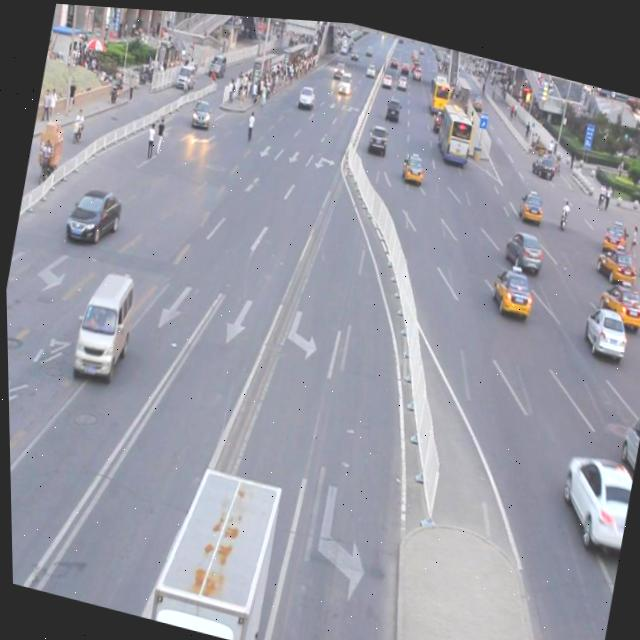bus: (142, 453, 285, 640)
car: (550, 439, 634, 543), (63, 179, 125, 250), (578, 294, 630, 352), (485, 255, 535, 312), (592, 268, 640, 322), (499, 219, 545, 268), (613, 396, 640, 474), (591, 236, 636, 277), (303, 626, 385, 640)
truck: (69, 265, 139, 381)
